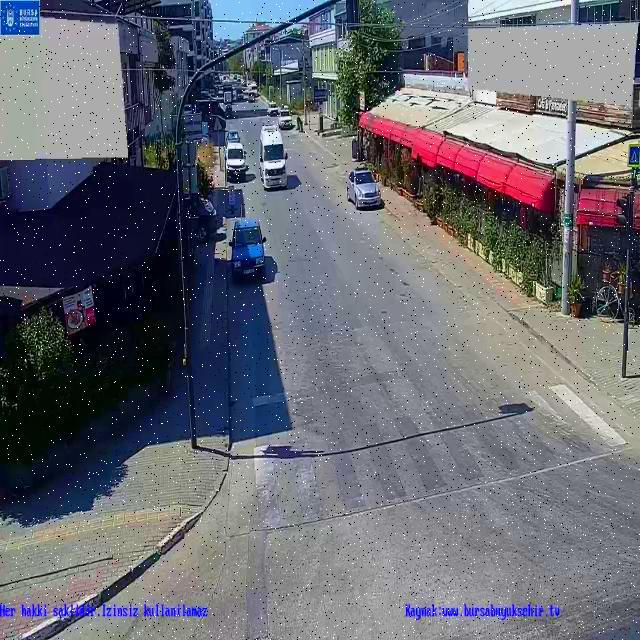car: (230, 219, 265, 276), (346, 169, 384, 208), (225, 140, 246, 182)
minivan: (260, 125, 288, 189)
traffic-lights: (618, 181, 640, 377)
